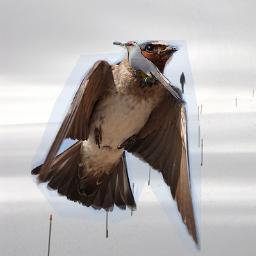Cuckoo: (113, 41, 187, 106)
Swallow: (31, 40, 201, 253)
